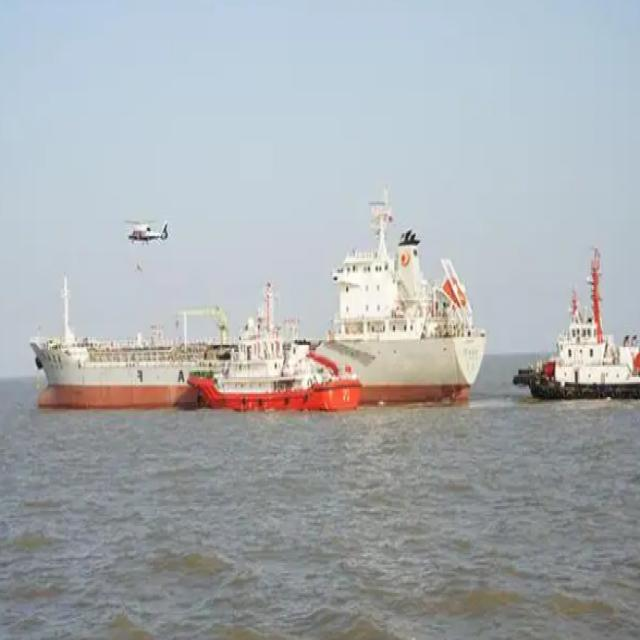navalvessels: (36, 208, 483, 429), (182, 315, 378, 410), (520, 276, 640, 404)
